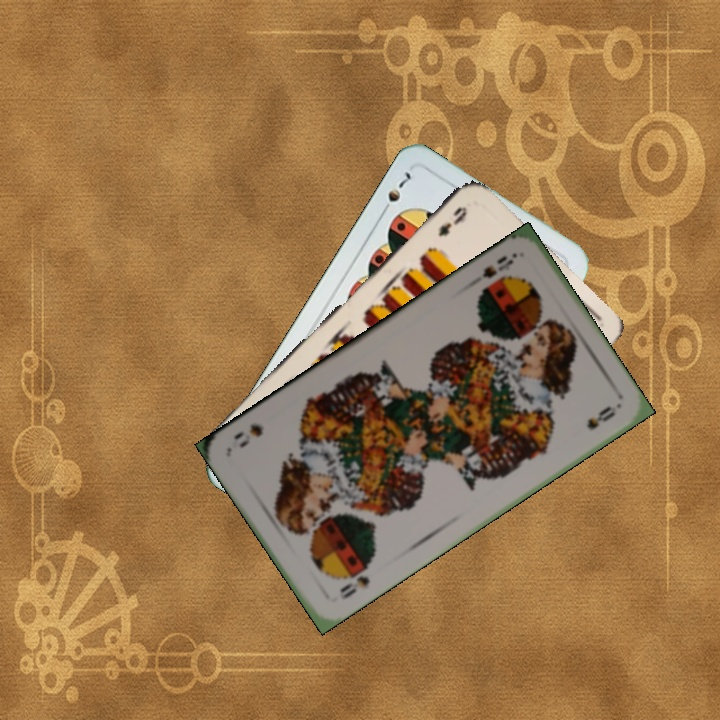E9: (434, 202, 470, 240)
S7: (376, 167, 414, 218)
SO: (335, 571, 373, 602), (478, 251, 517, 281)
